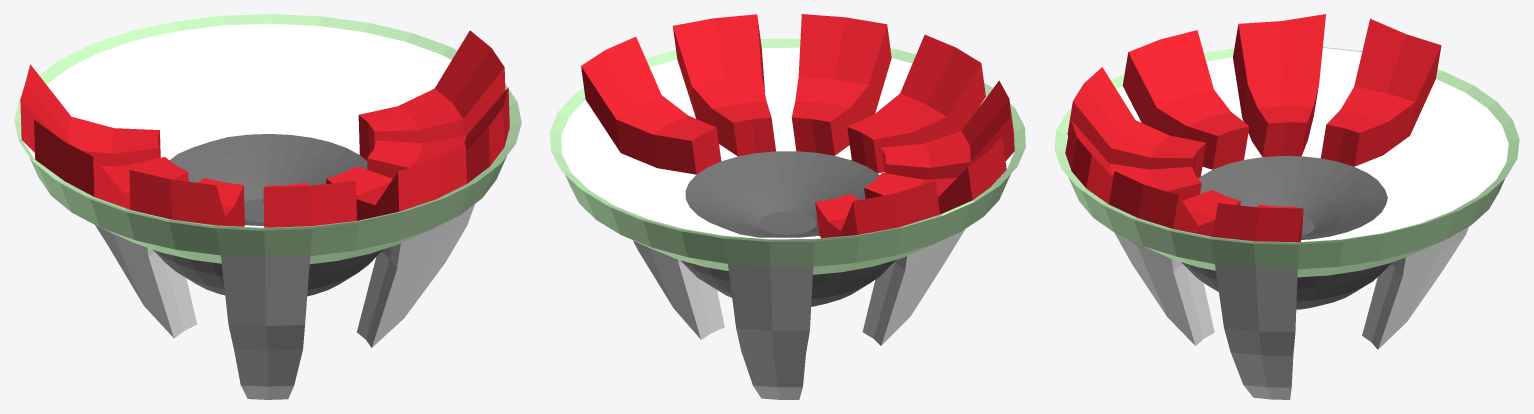
Rendered from sgreen.glb.
3 views of the same model, side by side, from view 1: azimuth 30°, elevation 25°; view 2: azimuth 150°, elevation 25°; view 3: azimuth 270°, elevation 25° (orthographic). The views are drawn at different scales.
Parts seen in each view (by area): view 1: spaceship Green.002; view 2: spaceship Green.002; view 3: spaceship Green.002.
Part boxes in pixels (<box>): spaceship Green.002: <box>14,14,521,399</box>; spaceship Green.002: <box>550,14,1025,399</box>; spaceship Green.002: <box>1054,14,1519,399</box>.
Bounding box in the file's own units: 0.8937 × 0.5301 × 0.8937.
